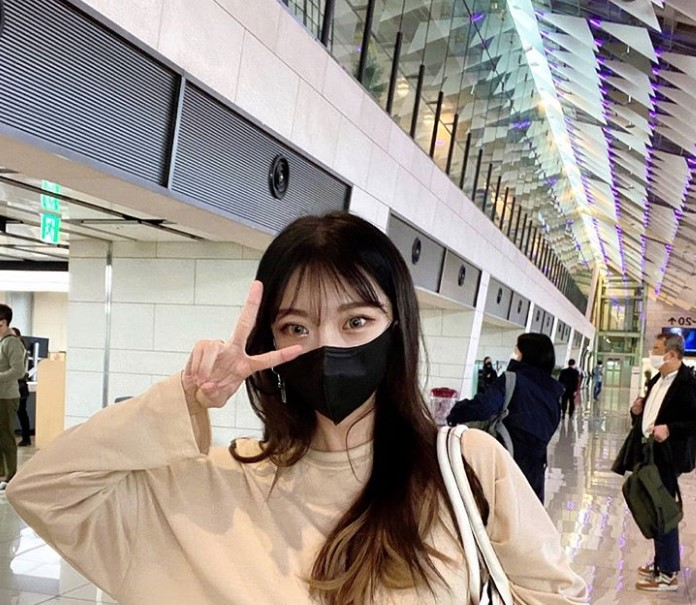face_with_mask: (248, 214, 409, 428), (647, 330, 684, 374)
